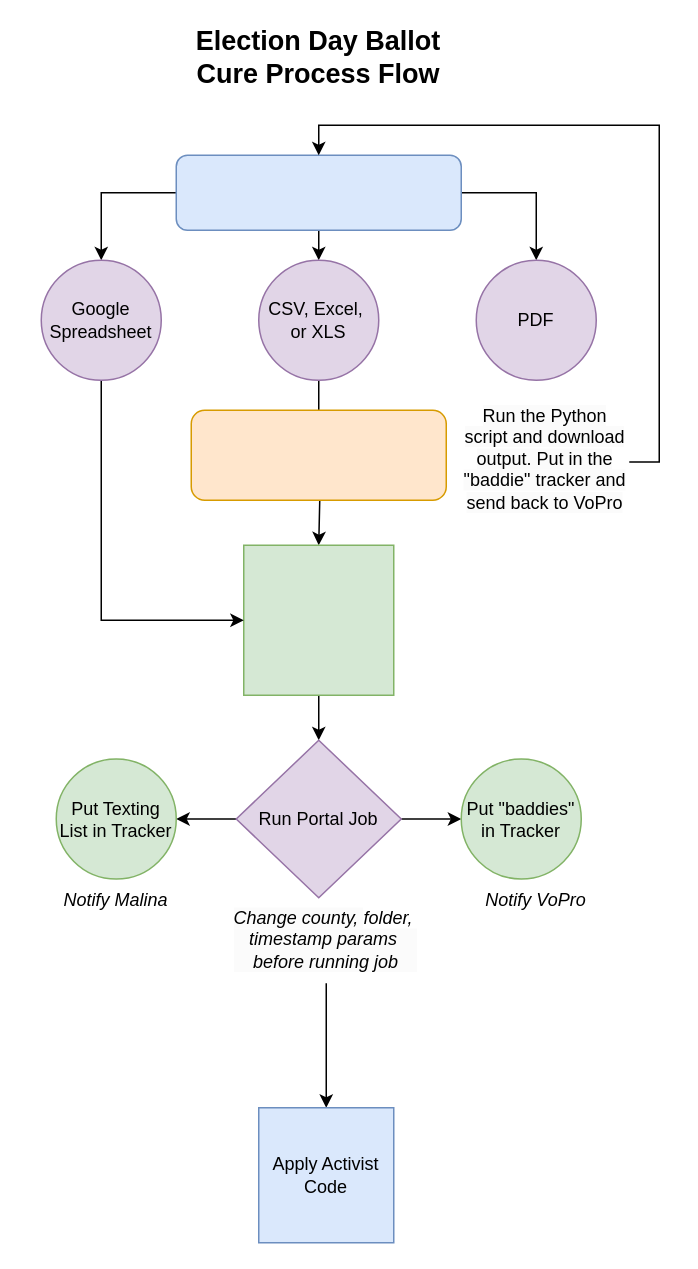
The diagram is 698 pixels wide and 1269 high, and some of its shapes have lost their labels. The shapes that lost their labels are listed below. From the top down, each one's centre as x and y in pixels, then its label:
point (318, 192): New data file is submitted on the Google Form
point (318, 454): Make sure columns are named correctly or change naming in Python script
point (318, 619): Run the Python script and check output in Google Sheet
